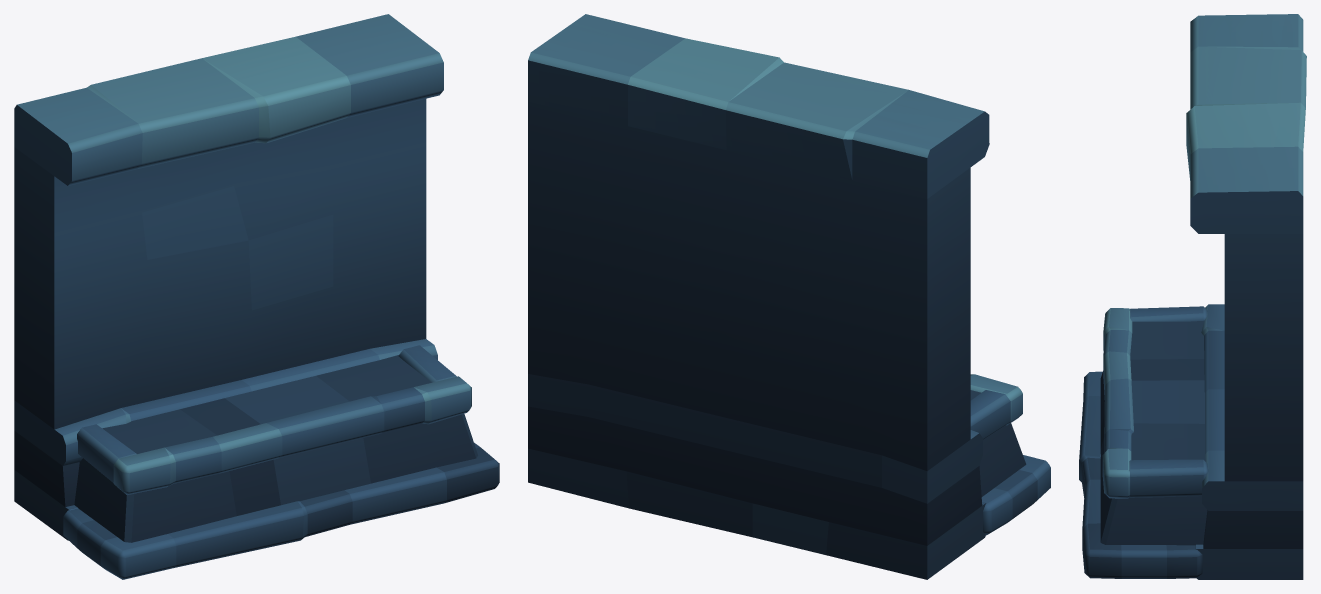
File: wall_element_tileable_deco_4meters.fbx
3 renders of one model, left to right at view 1: azimuth 30°, elevation 25°; view 2: azimuth 150°, elevation 25°; view 3: azimuth 270°, elevation 25°, orthographic. The views are drawn at different scales.
Visible parts, largest first — view 1: wall_element_tileable_deco_4meters; view 2: wall_element_tileable_deco_4meters; view 3: wall_element_tileable_deco_4meters.
Part boxes in pixels (x1=…): wall_element_tileable_deco_4meters: x1=14, y1=14, x2=499, y2=579; wall_element_tileable_deco_4meters: x1=528, y1=14, x2=1050, y2=579; wall_element_tileable_deco_4meters: x1=1079, y1=14, x2=1306, y2=579.
Bounding box in the file's own units: 416 × 412 × 217.
